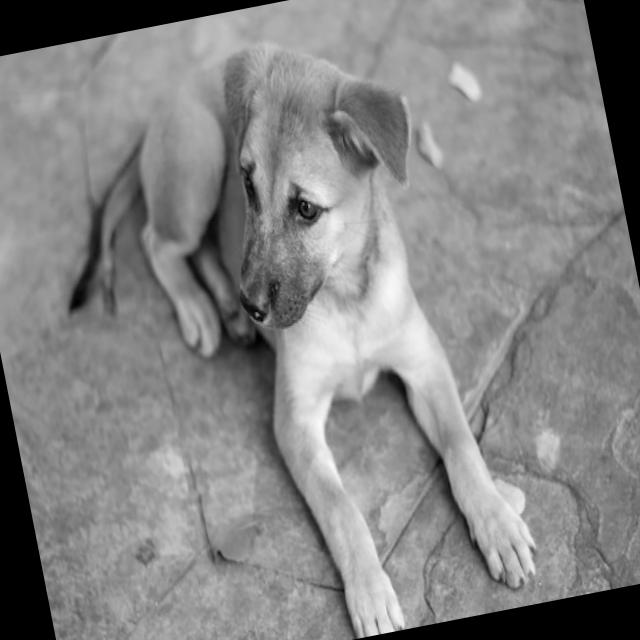laying down: (23, 2, 552, 640)
